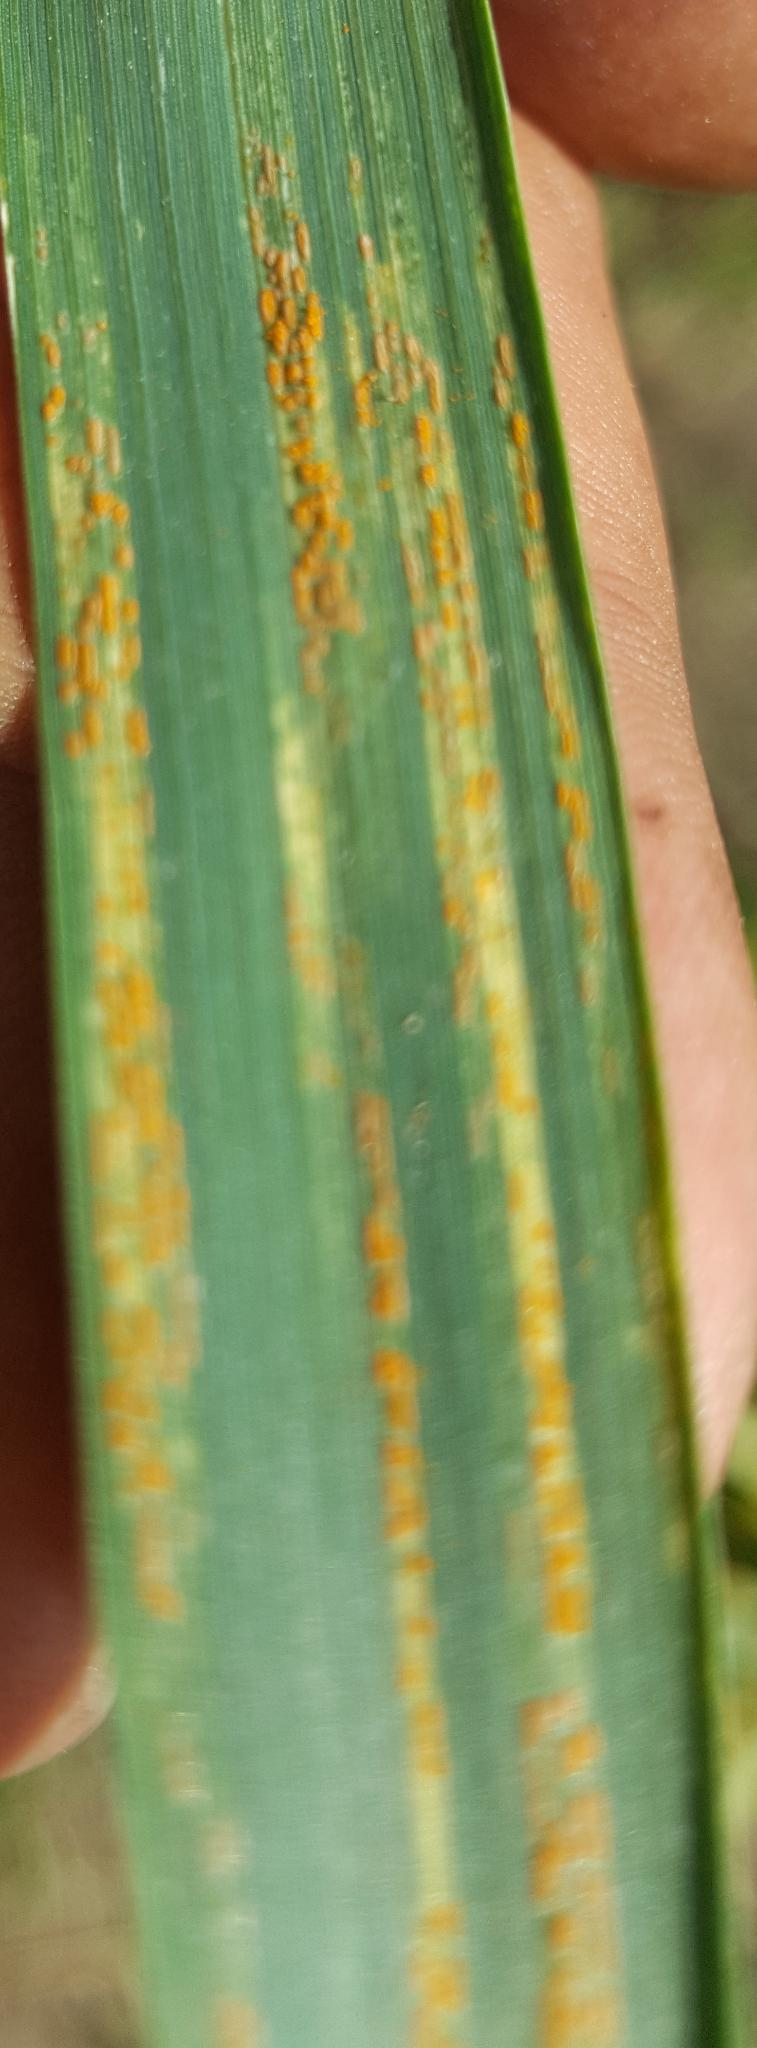Wheat: (104, 859, 632, 2028), (24, 194, 488, 701)
